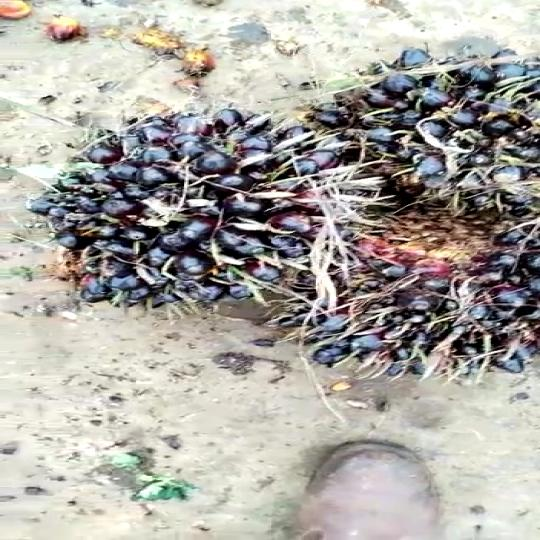mentah: (50, 97, 379, 312), (242, 198, 535, 384), (301, 42, 540, 202)
